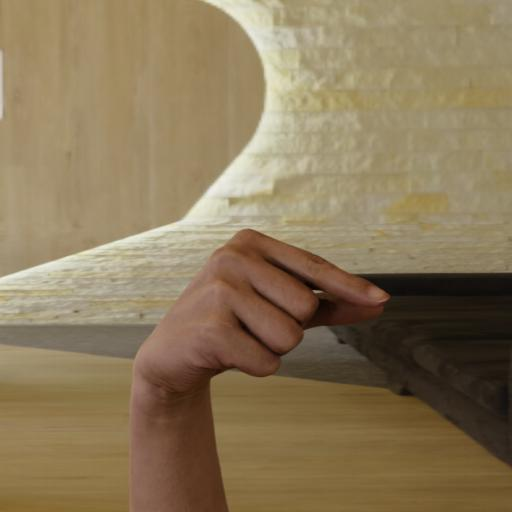G: (121, 225, 397, 416)
